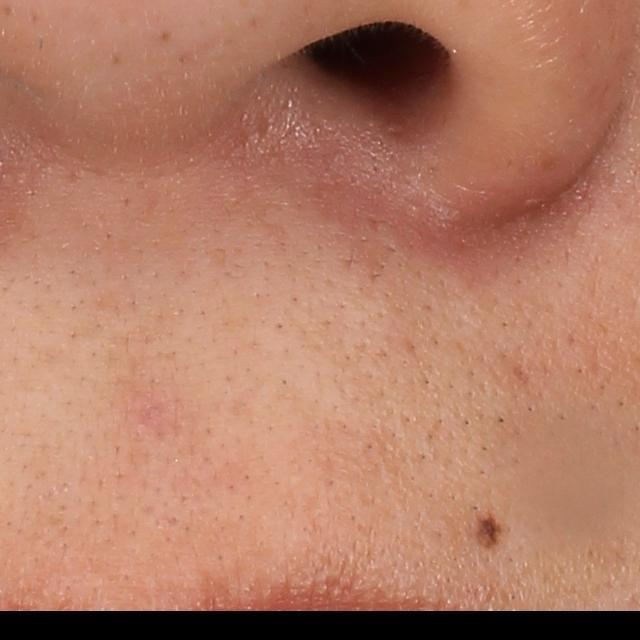nevus: (473, 507, 504, 550)
